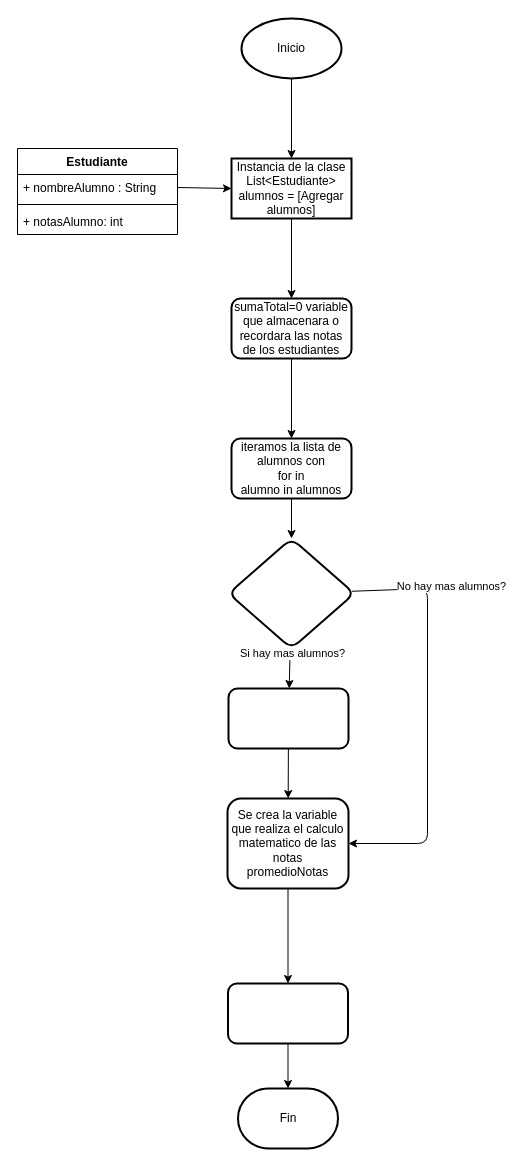
The diagram is 523 pixels wide and 1166 high, and some of its shapes have lost their labels. The shapes that lost their labels are listed below. From the top down, each one's centre as x and y in pixels, then its label:
point (291, 593): for in alumno in alumnos
point (288, 718): se asigna la nota del alumno a la variable sumaTotal
point (287, 1013): print de la variable promedioNotas
